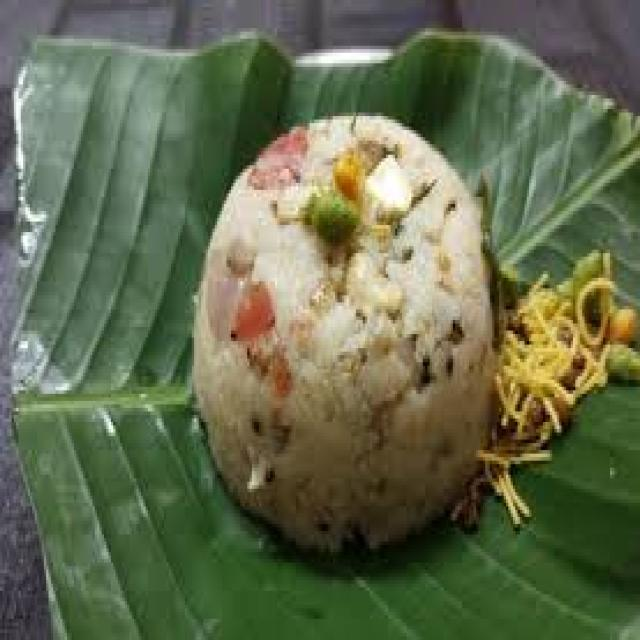UPMA: (192, 116, 490, 538)
